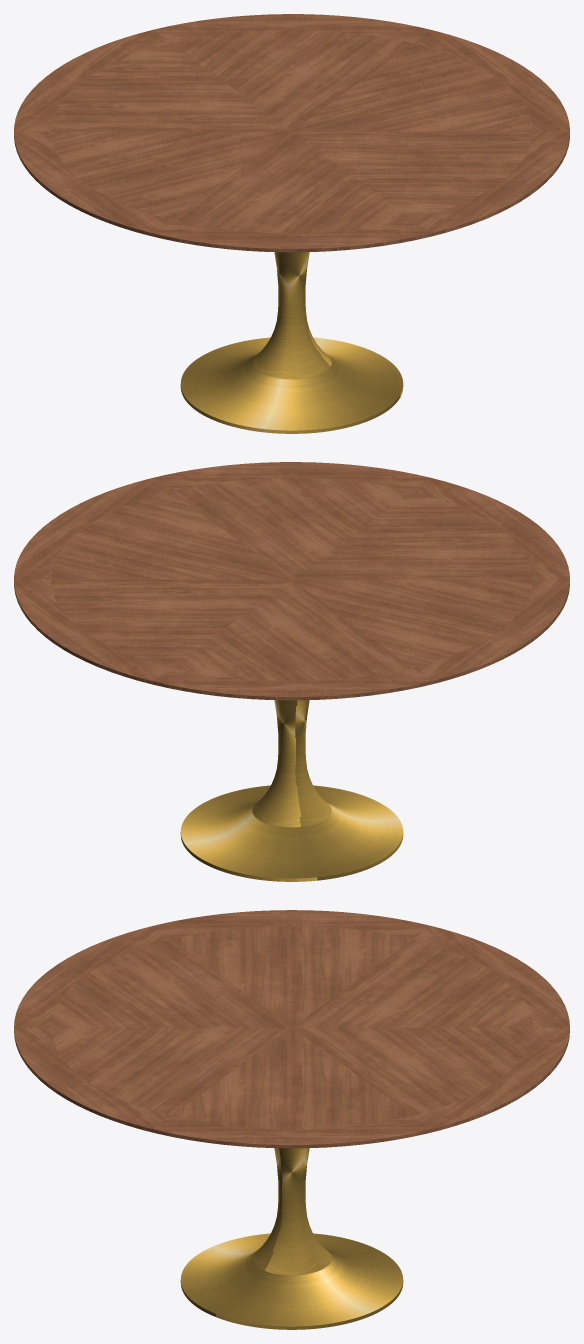
3 renders of one model, top to bottom at view 1: azimuth 30°, elevation 25°; view 2: azimuth 150°, elevation 25°; view 3: azimuth 270°, elevation 25°, orthographic.
Parts seen in each view (by area): view 1: root; view 2: root; view 3: root.
Boxes of the visible parts, x1=… form: root: x1=14, y1=14, x2=569, y2=433; root: x1=14, y1=462, x2=569, y2=881; root: x1=14, y1=910, x2=569, y2=1329.
Size of the model in its own units: 1.5 by 0.76 by 1.5.
3 materials, 2 textured.
